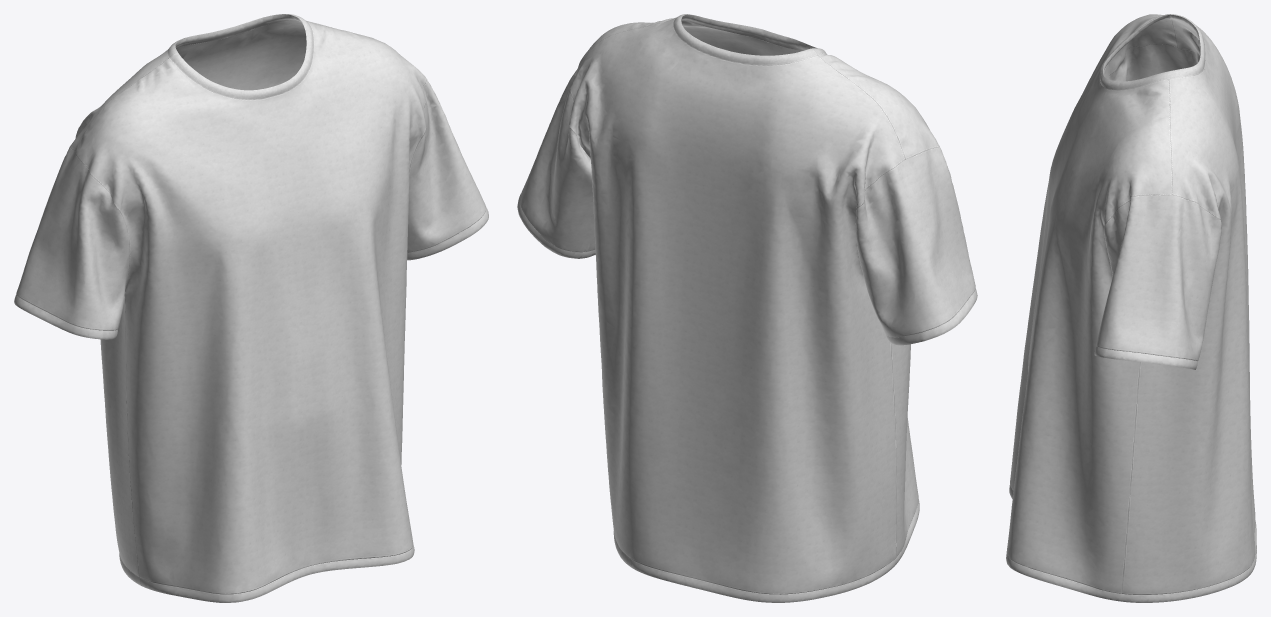
File: tshirt.glb
3 renders of one model, left to right at view 1: azimuth 30°, elevation 25°; view 2: azimuth 150°, elevation 25°; view 3: azimuth 270°, elevation 25°, orthographic. The views are drawn at different scales.
Visible parts, largest first — view 1: Object_2; view 2: Object_2; view 3: Object_2.
Part boxes in pixels (box(x1,y1,x2,y2)): Object_2: box(14, 14, 488, 602); Object_2: box(517, 14, 977, 602); Object_2: box(1006, 14, 1256, 602).
Bounding box in the file's own units: 0.637 × 0.7108 × 0.3212.
Materials: 1 (1 with a texture image).
